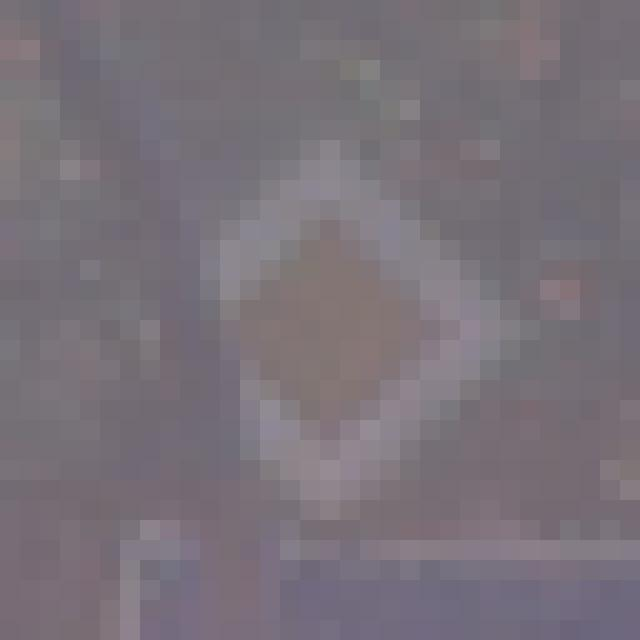Main Road: (101, 101, 521, 521)
